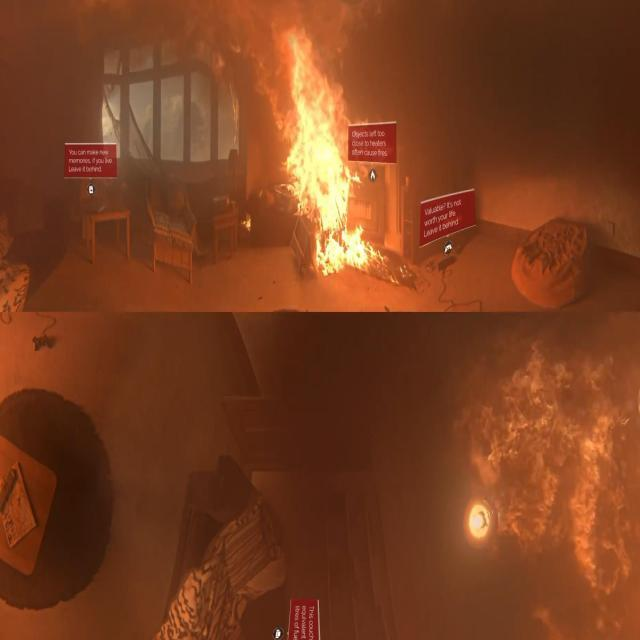smoke: (267, 24, 382, 274)
